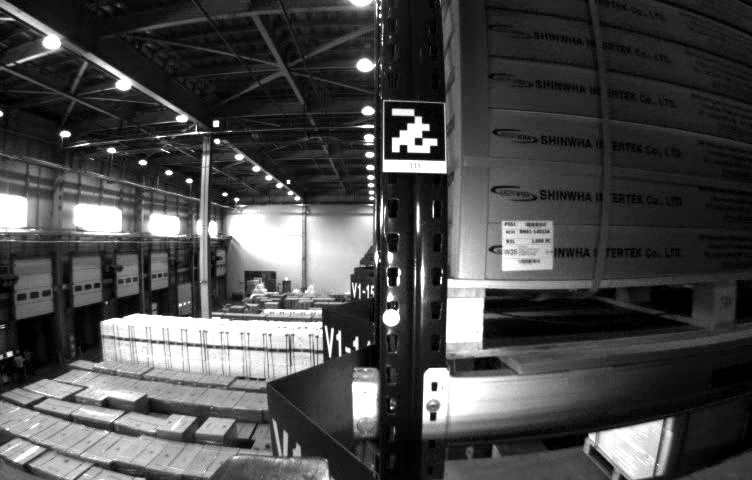True Barcode: (501, 217, 557, 271)
